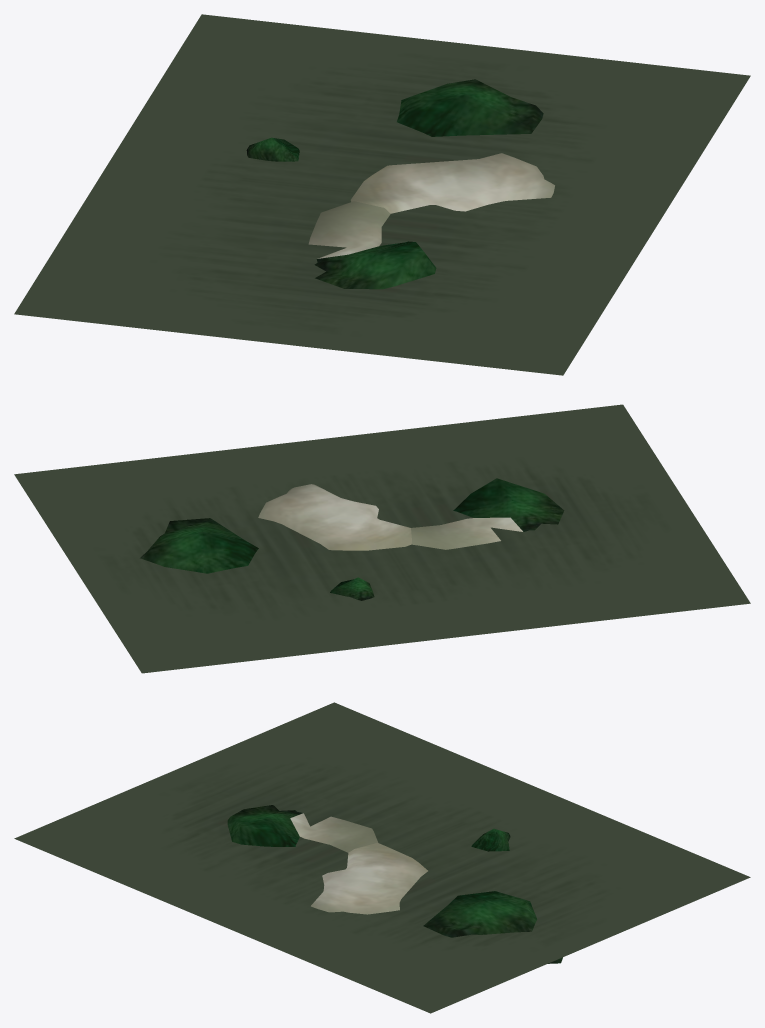
File: pir_m_are_isl_outcast_worldmap.fbx
3 views of the same model, one above another, from view 1: azimuth 30°, elevation 25°; view 2: azimuth 150°, elevation 25°; view 3: azimuth 270°, elevation 25° (orthographic). The views are drawn at different scales.
Parts seen in each view (by area): view 1: sketchmark, topmesh_0, topmesh_2, topmesh_3, topmesh_1; view 2: sketchmark, topmesh_0, topmesh_2, topmesh_3, topmesh_1; view 3: sketchmark, topmesh_0, topmesh_2, topmesh_3, topmesh_1.
Part boxes in pixels (x1,y1,x2,y2): sketchmark: (14,14,750,375); topmesh_0: (308,153,554,258); topmesh_2: (397,79,543,136); topmesh_3: (314,241,436,289); topmesh_1: (246,137,299,161); sketchmark: (14,404,750,673); topmesh_0: (258,484,522,550); topmesh_2: (140,518,258,573); topmesh_3: (453,478,564,531); topmesh_1: (330,577,374,600); sketchmark: (14,702,750,1013); topmesh_0: (290,813,427,914); topmesh_2: (423,891,562,963); topmesh_3: (227,805,303,846); topmesh_1: (471,828,510,851).
Size of the model in its own units: 22.07 by 1.41 by 22.09.
2 materials, 2 textured.
